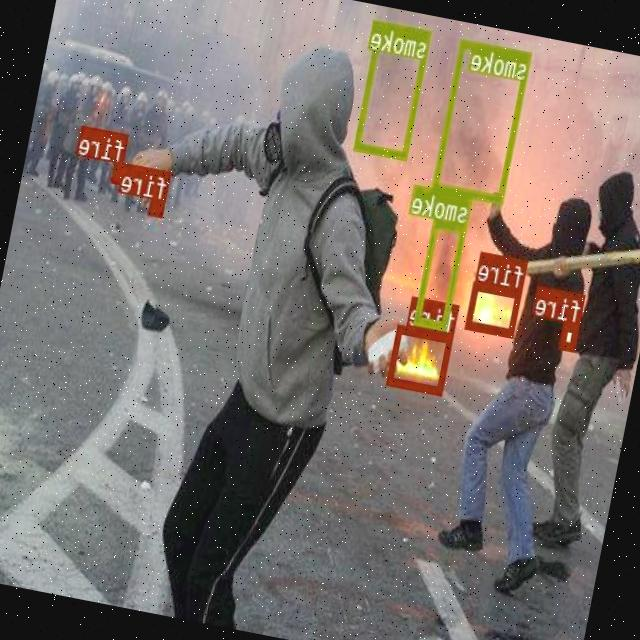fire: (388, 324, 456, 394), (466, 281, 524, 336), (560, 321, 581, 350), (150, 198, 166, 216), (114, 163, 124, 183)
smoke: (432, 37, 534, 203), (356, 20, 434, 160), (415, 219, 469, 330)
